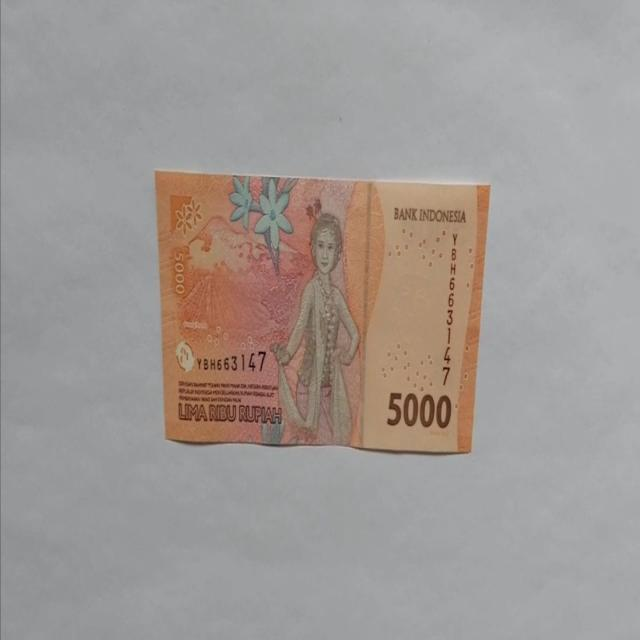lima ribu rupiah: (154, 168, 491, 454), (269, 212, 361, 446)
